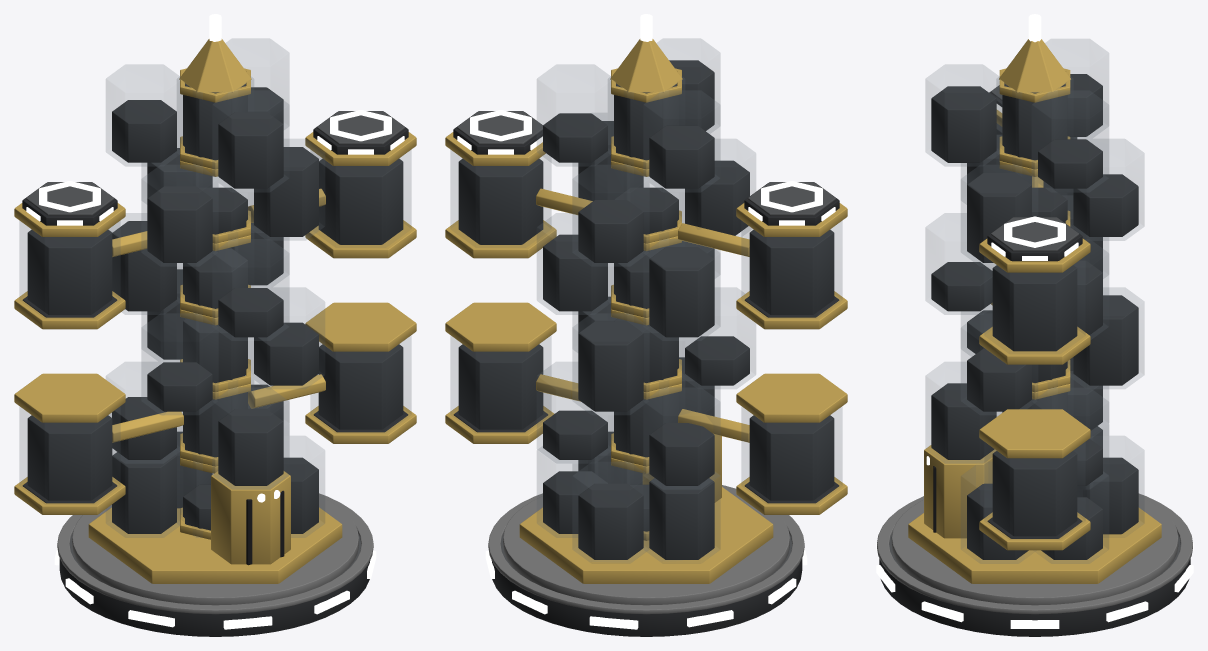
The model's file is Skin_Hive_T3.glb.
The picture shows the model from 3 angles, left to right: view 1: azimuth 30°, elevation 25°; view 2: azimuth 150°, elevation 25°; view 3: azimuth 270°, elevation 25°; orthographic projection.
Parts seen in each view (by area): view 1: Skin_Hive_T3; view 2: Skin_Hive_T3; view 3: Skin_Hive_T3.
Boxes of the visible parts, box(x1,y1,x2,y2) form: Skin_Hive_T3: box(14, 14, 416, 636); Skin_Hive_T3: box(445, 14, 847, 636); Skin_Hive_T3: box(876, 14, 1193, 636).
Size of the model in its own units: 5.28 by 7.48 by 3.87.
